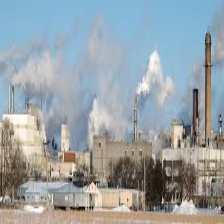smoke: (11, 41, 191, 114)
